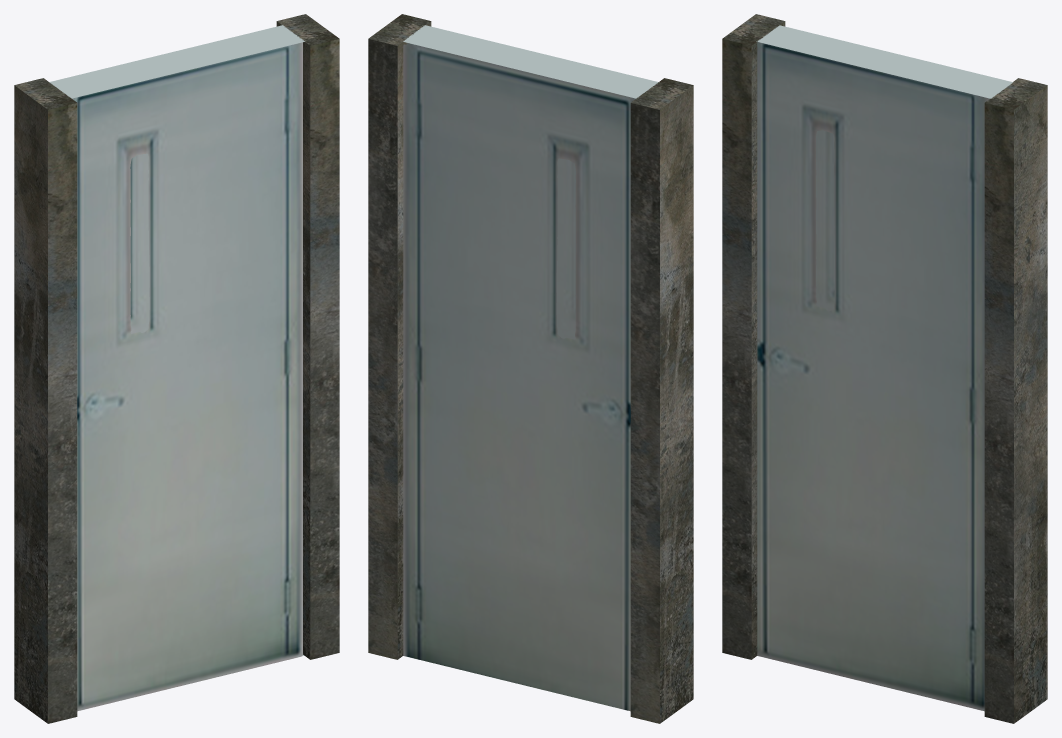
The model's file is 5x10x1wall_door.fbx.
The picture shows the model from 3 angles, left to right: view 1: azimuth 30°, elevation 25°; view 2: azimuth 150°, elevation 25°; view 3: azimuth 330°, elevation 25°; orthographic projection.
Visible parts, largest first — view 1: Door, wall, wall1; view 2: Door, wall, wall1; view 3: Door, wall1, wall.
Part boxes in pixels (x1,y1,x2,y2): Door: (49,25,304,711); wall: (14,78,77,723); wall1: (276,14,339,659); Door: (403,25,659,711); wall: (630,78,693,723); wall1: (368,14,431,659); Door: (756,25,1012,711); wall1: (984,78,1047,723); wall: (722,14,785,659).
Size of the model in its own units: 4.97 by 10 by 1.
Materials: 2 (2 with a texture image).
